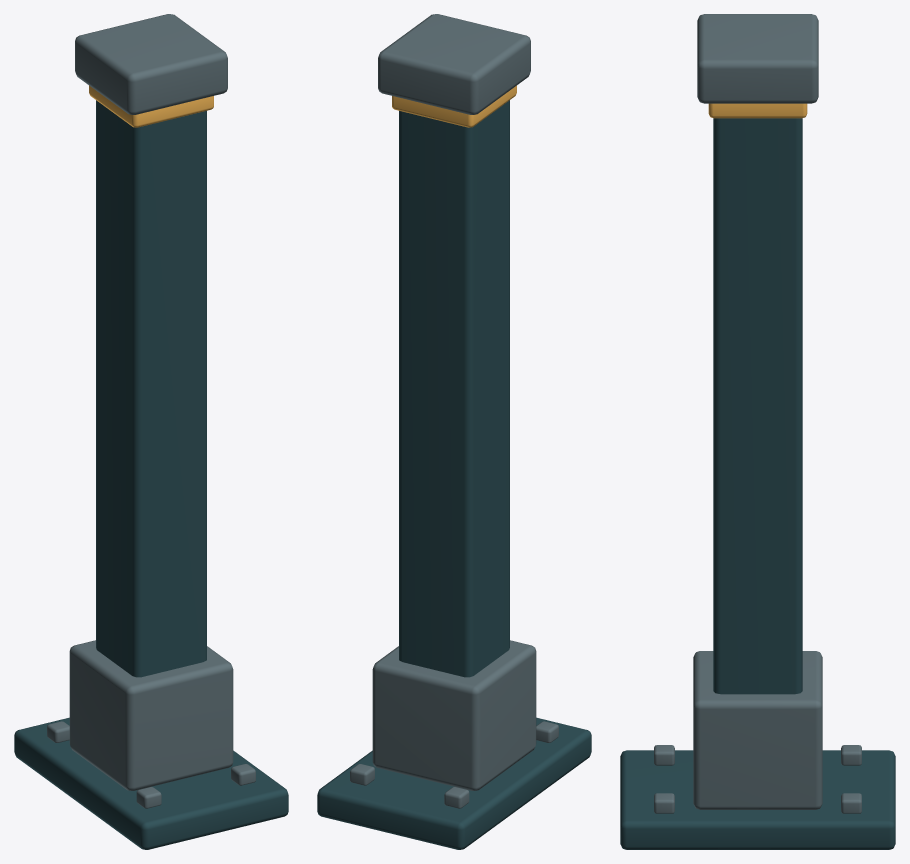
The model's file is city_quay_furniture_02_post_deck.glb.
The picture shows the model from 3 angles, left to right: view 1: azimuth 30°, elevation 25°; view 2: azimuth 150°, elevation 25°; view 3: azimuth 270°, elevation 25°; orthographic projection. The views are drawn at different scales.
Visible parts, largest first — view 1: CityQuayFurniture02_post_deck_Mesh; view 2: CityQuayFurniture02_post_deck_Mesh; view 3: CityQuayFurniture02_post_deck_Mesh.
Boxes of the visible parts, <box> form: CityQuayFurniture02_post_deck_Mesh: <box>14,14,288,849</box>; CityQuayFurniture02_post_deck_Mesh: <box>317,14,591,849</box>; CityQuayFurniture02_post_deck_Mesh: <box>620,14,895,849</box>.
Size of the model in its own units: 0.22 by 1.06 by 0.34.
